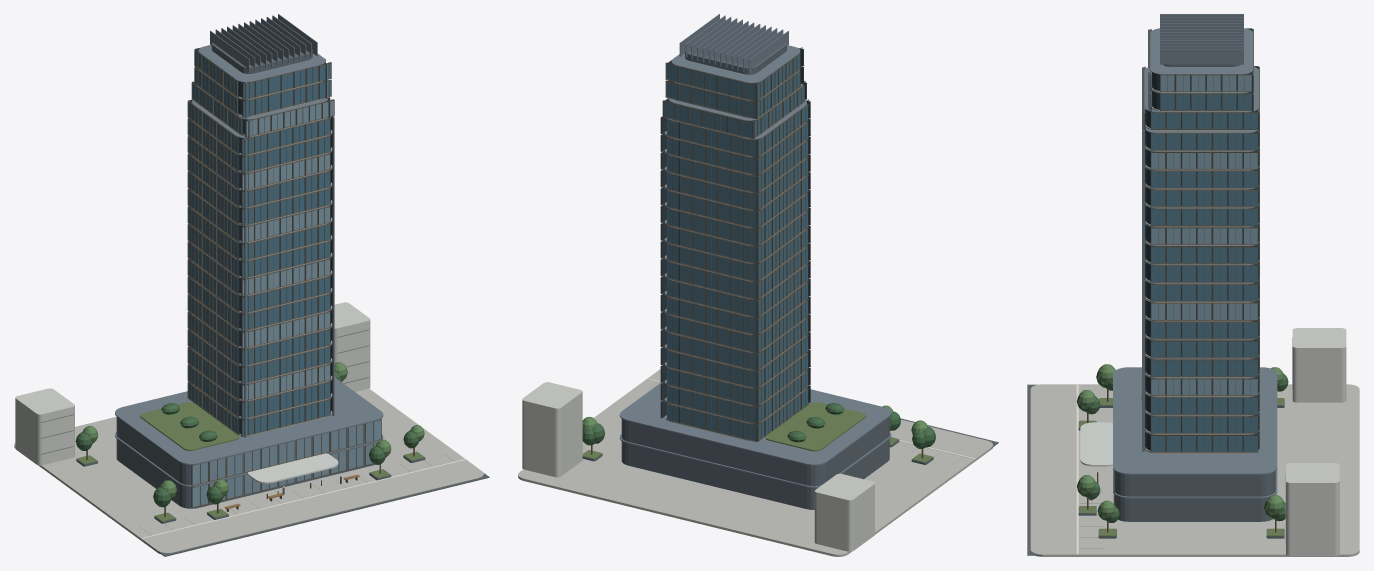
Rendered from aba_concept.glb.
3 views of the same model, side by side, from view 1: azimuth 30°, elevation 25°; view 2: azimuth 150°, elevation 25°; view 3: azimuth 270°, elevation 25° (orthographic). The views are drawn at different scales.
Visible parts, largest first — view 1: Site_Context_Paving, Podium_Structure_Dark_Stone, Site_Context_Context, Podium_Floor_02_Facade_Aluminium, OfficeA_Roof_Aluminium, Podium_Floor_02_Windows_Office_Glass_Light, Podium_Roof_Grass, OfficeA_Floor_11_Windows_Office_Glass, OfficeA_Floor_13_Windows_Office_Glass, OfficeA_Floor_16_Windows_Office_Glass, OfficeA_Floor_02_Windows_Office_Glass, OfficeA_Floor_14_Windows_Office_Glass (+52 smaller); view 2: Site_Context_Paving, Podium_Structure_Dark_Stone, Site_Context_Context, Podium_Floor_02_Facade_Aluminium, OfficeA_Roof_Aluminium, Podium_Roof_Grass, OfficeA_Floor_18_Windows_Office_Glass, OfficeA_Floor_08_Windows_Office_Glass, OfficeA_Floor_03_Windows_Office_Glass, OfficeA_Floor_04_Windows_Office_Glass, OfficeA_Floor_09_Windows_Office_Glass, OfficeA_Floor_16_Windows_Office_Glass (+38 smaller); view 3: Site_Context_Paving, Site_Context_Context, Podium_Floor_02_Facade_Aluminium, Podium_Structure_Dark_Stone, OfficeA_Roof_Aluminium, OfficeA_Floor_18_Windows_Office_Glass, OfficeA_Floor_05_Windows_Office_Glass, OfficeA_Floor_13_Windows_Office_Glass, OfficeA_Floor_07_Windows_Office_Glass, OfficeA_Floor_14_Windows_Office_Glass, OfficeA_Floor_15_Windows_Office_Glass, OfficeA_Floor_03_Windows_Office_Glass (+43 smaller).
Part boxes in pixels (box(x1,y1,x2,y2)): Site_Context_Paving: box(14, 388, 483, 554); Podium_Structure_Dark_Stone: box(116, 417, 375, 508); Site_Context_Context: box(15, 302, 370, 465); Podium_Floor_02_Facade_Aluminium: box(115, 377, 383, 464); OfficeA_Roof_Aluminium: box(210, 14, 317, 72); Podium_Floor_02_Windows_Office_Glass_Light: box(192, 420, 380, 484); Podium_Roof_Grass: box(140, 402, 238, 450); OfficeA_Floor_11_Windows_Office_Glass: box(188, 208, 329, 260); OfficeA_Floor_13_Windows_Office_Glass: box(188, 172, 329, 225); OfficeA_Floor_16_Windows_Office_Glass: box(188, 120, 329, 172); OfficeA_Floor_02_Windows_Office_Glass: box(188, 366, 329, 418); OfficeA_Floor_14_Windows_Office_Glass: box(188, 154, 329, 207); Site_Context_Paving: box(518, 369, 992, 556); Podium_Structure_Dark_Stone: box(621, 417, 889, 509); Site_Context_Context: box(522, 382, 874, 551); Podium_Floor_02_Facade_Aluminium: box(619, 382, 891, 465); OfficeA_Roof_Aluminium: box(679, 14, 788, 73); Podium_Roof_Grass: box(765, 402, 865, 451); OfficeA_Floor_18_Windows_Office_Glass: box(663, 87, 804, 138); OfficeA_Floor_08_Windows_Office_Glass: box(667, 265, 807, 316); OfficeA_Floor_03_Windows_Office_Glass: box(667, 354, 807, 405); OfficeA_Floor_04_Windows_Office_Glass: box(667, 336, 807, 387); OfficeA_Floor_09_Windows_Office_Glass: box(667, 247, 807, 298); OfficeA_Floor_16_Windows_Office_Glass: box(667, 123, 807, 174); Site_Context_Paving: box(1030, 384, 1359, 556); Site_Context_Context: box(1286, 328, 1346, 555); Podium_Floor_02_Facade_Aluminium: box(1113, 367, 1277, 474); Podium_Structure_Dark_Stone: box(1115, 471, 1275, 521); OfficeA_Roof_Aluminium: box(1160, 14, 1243, 64); OfficeA_Floor_18_Windows_Office_Glass: box(1151, 67, 1259, 129); OfficeA_Floor_05_Windows_Office_Glass: box(1151, 355, 1259, 376); OfficeA_Floor_13_Windows_Office_Glass: box(1151, 204, 1259, 225); OfficeA_Floor_07_Windows_Office_Glass: box(1151, 317, 1259, 338); OfficeA_Floor_14_Windows_Office_Glass: box(1151, 185, 1259, 206); OfficeA_Floor_15_Windows_Office_Glass: box(1151, 166, 1259, 187); OfficeA_Floor_03_Windows_Office_Glass: box(1151, 393, 1259, 414).
Size of the model in its own units: 61 by 73.8 by 49.5.
